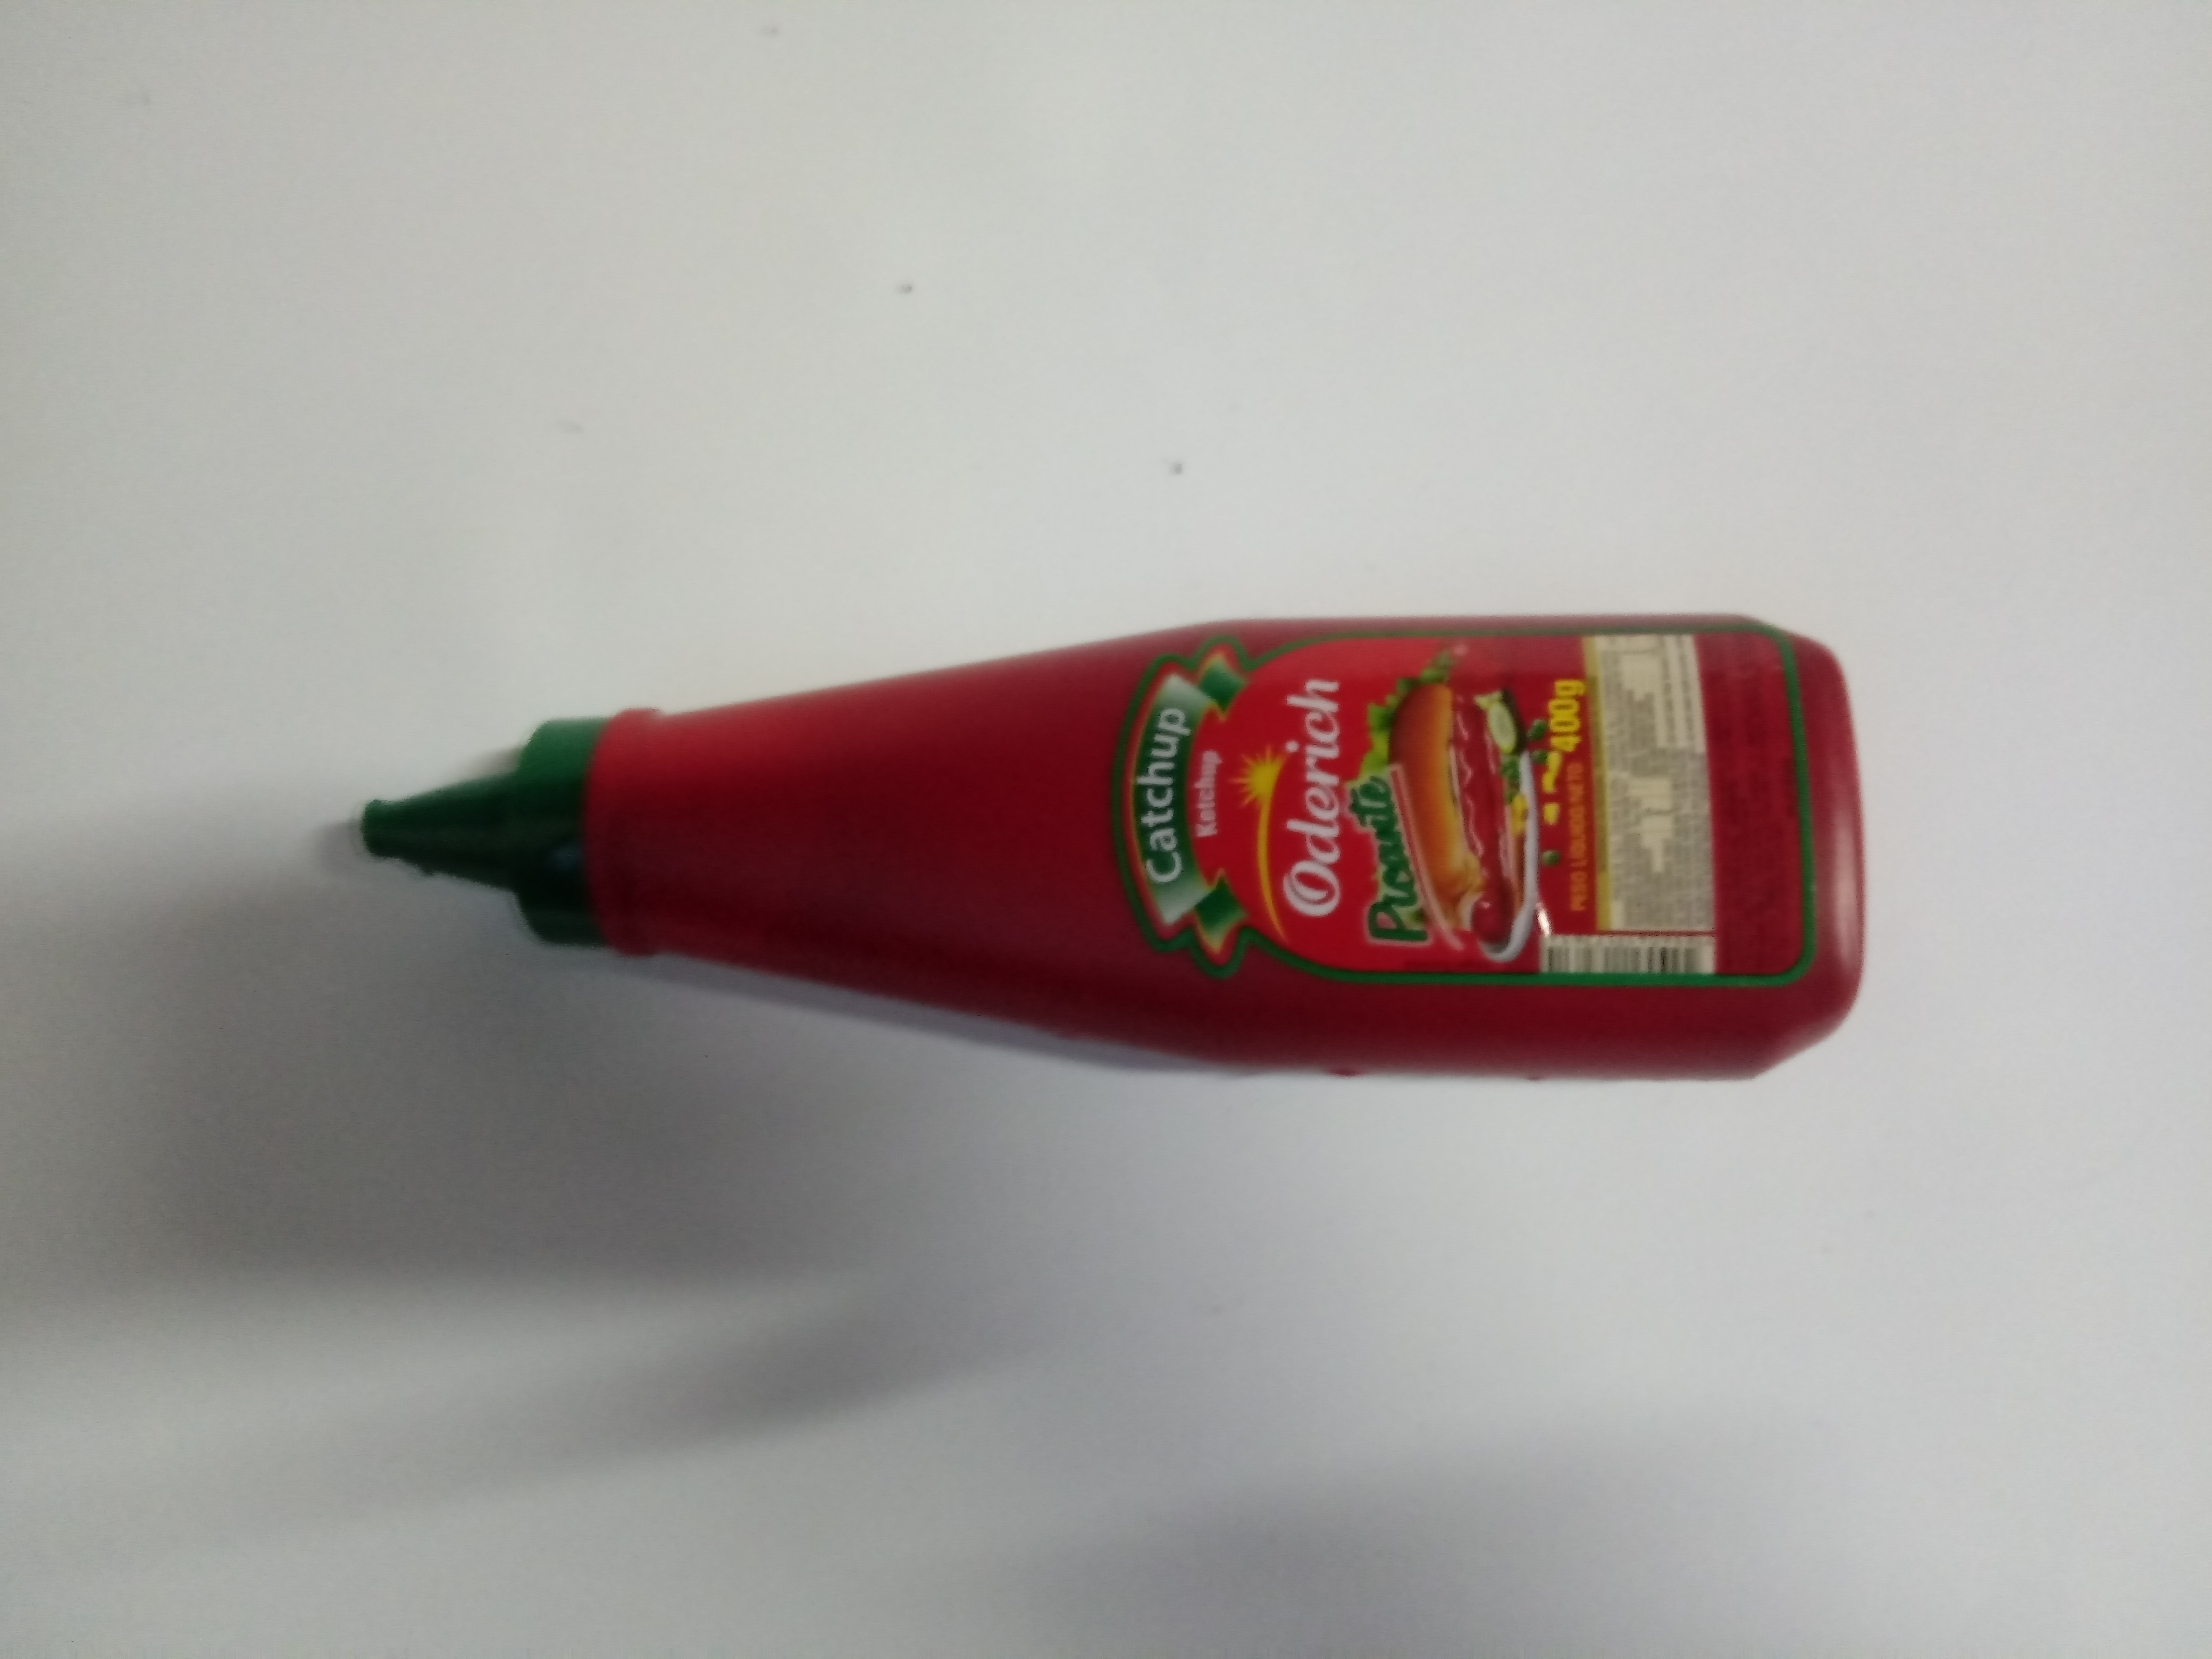catchup-oderich: (326, 579, 1893, 1107)
